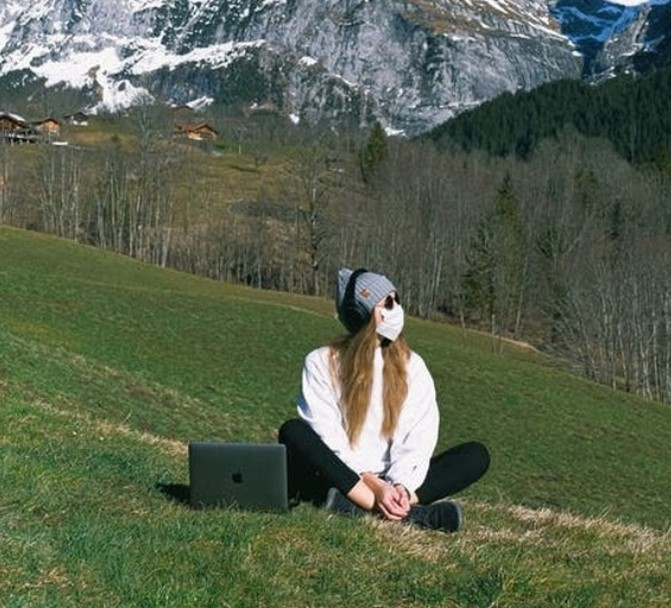face_with_mask: (336, 267, 406, 342)
